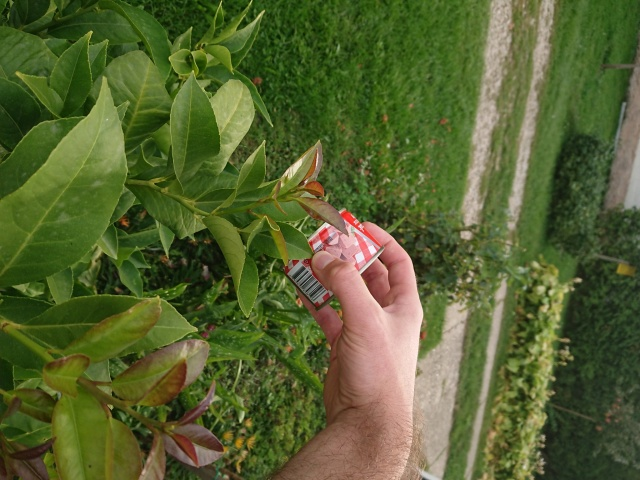Podravka Luncheon Meat 150g: (280, 206, 387, 315)
